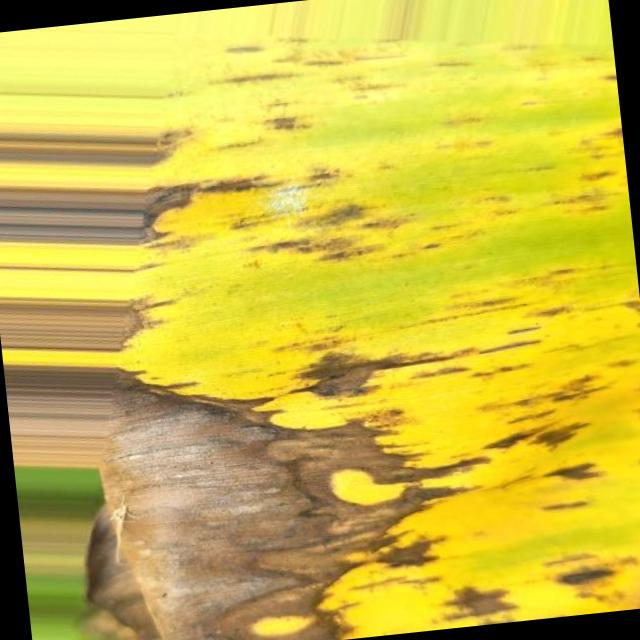Banana_Black_Sigatoka: (64, 295, 625, 640), (120, 64, 448, 314)
